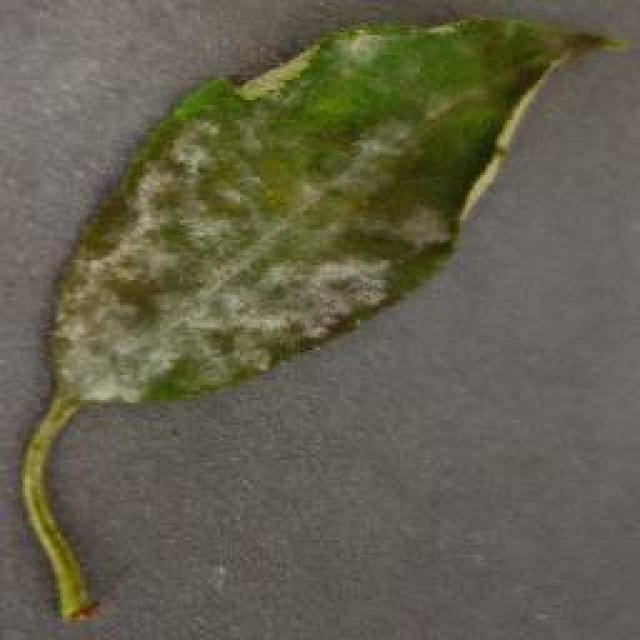Cherry___Powdery_mildew: (5, 2, 630, 632)
